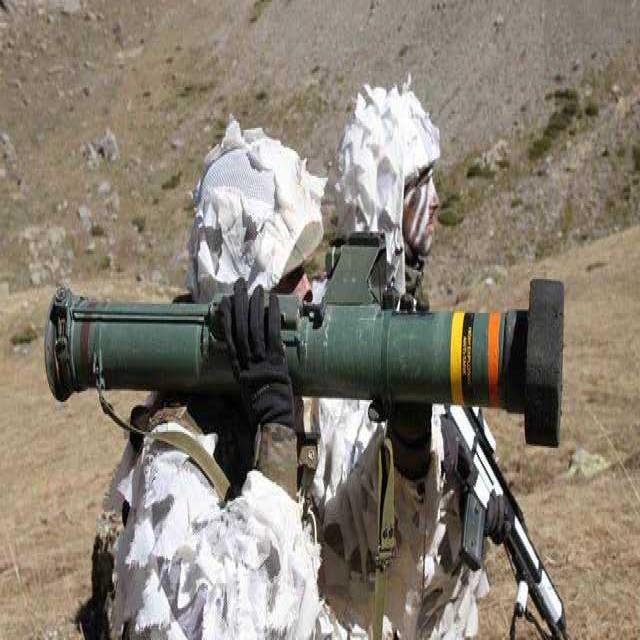bazooka: (41, 246, 577, 490)
